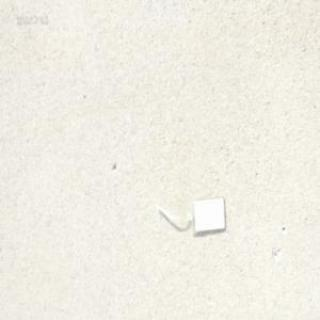LuggageTagtrack_idkeyframe: (150, 190, 227, 235)
